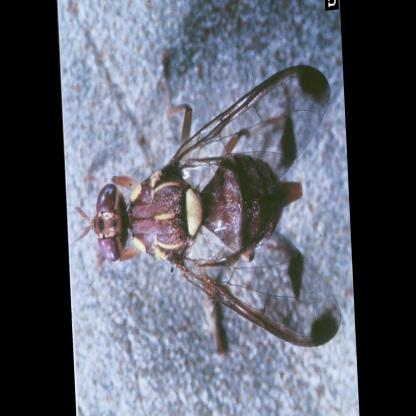fruit fly: (76, 64, 341, 348)
